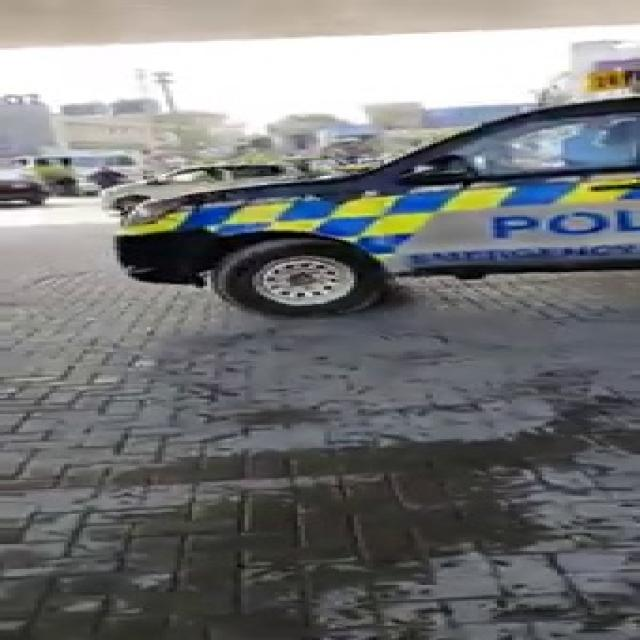police: (83, 73, 640, 331), (106, 64, 640, 319)
